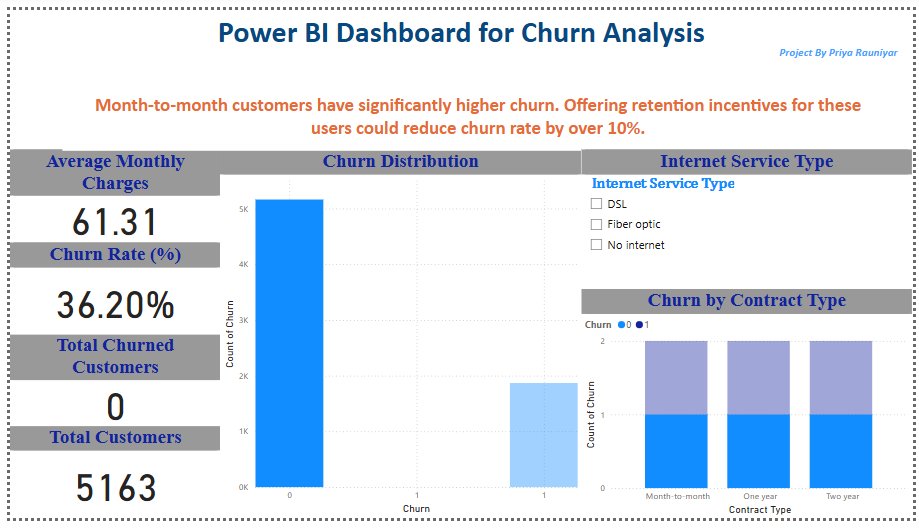

This screenshot's page, from the dashboard's own definition file:
{"tool":"powerbi","page":{"name":"Page 1","canvas":[1280,720],"ordinal":0},"visuals":[{"type":"card","title":"Total Customers","fields":{"Values":["CountNonNull(cleaned_telco_churn.tenure)"]},"box":[0,589.6,298.6,130.4],"z":0},{"type":"textbox","box":[283.5,0,714.3,64.3],"z":1000},{"type":"textbox","box":[0,94.5,299,219],"z":2000},{"type":"textbox","box":[1069.6,45.4,209.8,49.1],"z":3000},{"type":"card","title":"Total Churned Customers","fields":{"Values":["Sum(cleaned_telco_churn.Churn)"]},"box":[0,459.2,298.6,130.4],"z":4000},{"type":"card","title":"Churn Rate (%)","fields":{"Values":["cleaned_telco_churn.Churn Rate (%)"]},"box":[0,328.8,298.6,130.4],"z":5000},{"type":"card","title":"Average Monthly Charges","fields":{"Values":["Avg(cleaned_telco_churn.MonthlyCharges)"]},"box":[0,198.4,298.6,130.4],"z":6000},{"type":"clusteredColumnChart","title":"Churn Distribution","fields":{"Category":["cleaned_telco_churn.Churn"],"Y":["CountNonNull(cleaned_telco_churn.Churn)"]},"box":[298.6,198.4,512.1,521.6],"z":7000},{"type":"columnChart","title":"Churn by Contract Type","fields":{"Category":["cleaned_telco_churn.Contract Type"],"Series":["cleaned_telco_churn.Churn"],"Y":["Count(cleaned_telco_churn.Churn)"]},"box":[810.7,395,468.7,325],"z":8000},{"type":"textbox","box":[73.7,126.6,1132,71.8],"z":9000},{"type":"textbox","box":[98.3,113.4,1132,81.3],"z":10000},{"type":"slicer","title":"Internet Service Type","fields":{"Values":["cleaned_telco_churn.Internet Service Type"]},"box":[810.7,198.4,468.7,196.5],"z":10001}]}

Visuals, with their boxes in screenshot pixels (x1, y1, x2, y2), scaled from the page's 1280x720 canvas onto the 919x530 screenshot:
"Total Customers" card: pyautogui.locateOnScreen(0, 434, 214, 529)
textbox: pyautogui.locateOnScreen(204, 0, 716, 47)
textbox: pyautogui.locateOnScreen(0, 70, 215, 231)
textbox: pyautogui.locateOnScreen(768, 33, 918, 70)
"Total Churned Customers" card: pyautogui.locateOnScreen(0, 338, 214, 434)
"Churn Rate (%)" card: pyautogui.locateOnScreen(0, 242, 214, 338)
"Average Monthly Charges" card: pyautogui.locateOnScreen(0, 146, 214, 242)
"Churn Distribution" clusteredColumnChart: pyautogui.locateOnScreen(214, 146, 582, 529)
"Churn by Contract Type" columnChart: pyautogui.locateOnScreen(582, 291, 918, 529)
textbox: pyautogui.locateOnScreen(53, 93, 866, 146)
textbox: pyautogui.locateOnScreen(71, 83, 883, 143)
"Internet Service Type" slicer: pyautogui.locateOnScreen(582, 146, 918, 291)
